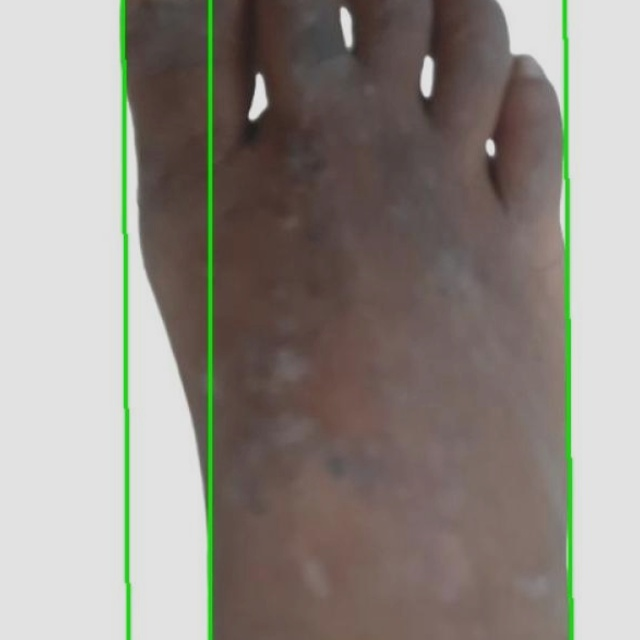Contact Dermatitis: (122, 0, 570, 639), (0, 0, 209, 639)
